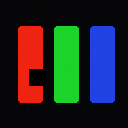1 square: (29, 69, 45, 85)
